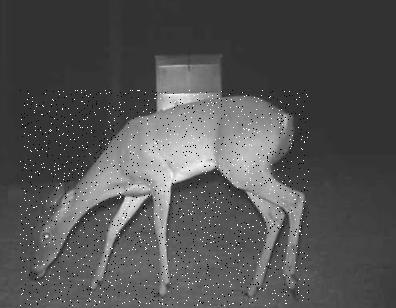Deer: (20, 90, 309, 306)
